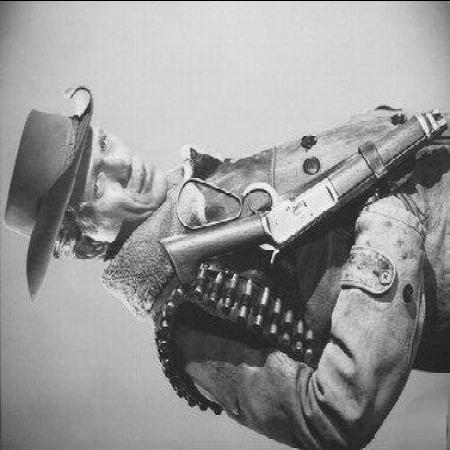Pistol: (173, 104, 439, 292)
